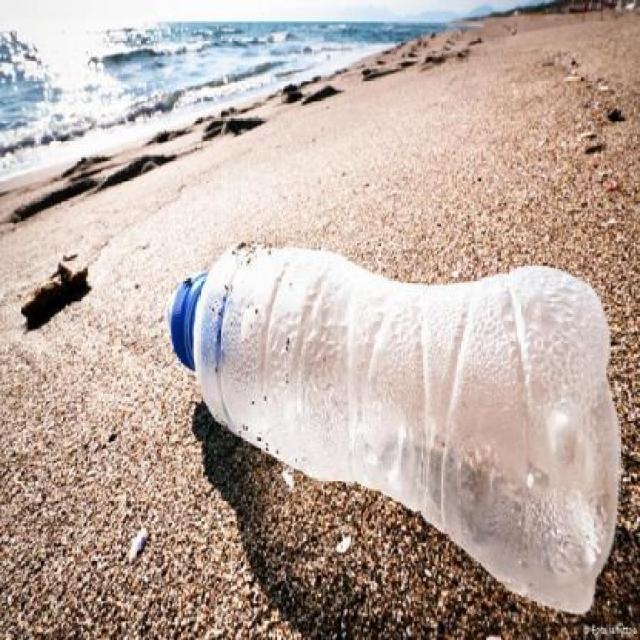bottle: (148, 239, 640, 597)
